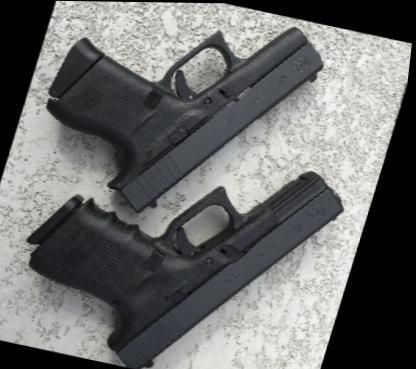pistol: (0, 113, 367, 367), (17, 1, 338, 240)
